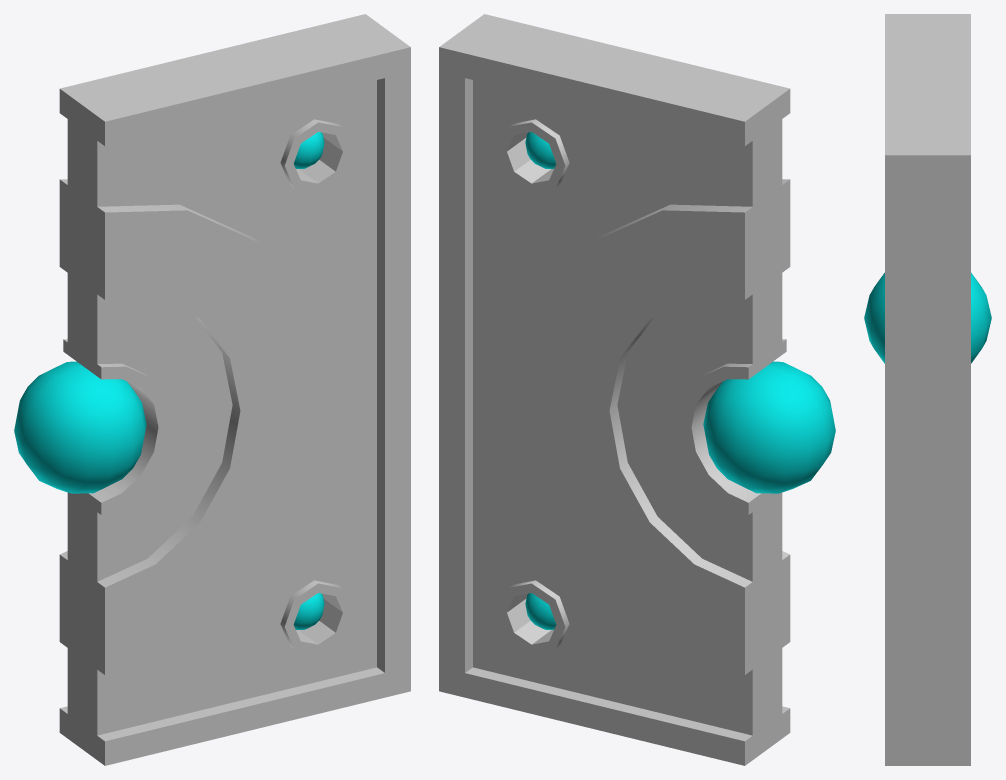
File: SM_DoorR.fbx
The picture shows the model from 3 angles, left to right: view 1: azimuth 30°, elevation 25°; view 2: azimuth 150°, elevation 25°; view 3: azimuth 270°, elevation 25°; orthographic projection. The views are drawn at different scales.
Parts seen in each view (by area): view 1: doorRight; view 2: doorRight; view 3: doorRight.
Boxes of the visible parts, x1,y1,x2,y2 form: doorRight: [14, 14, 410, 765]; doorRight: [439, 14, 835, 765]; doorRight: [864, 14, 991, 765].
Bounding box in the file's own units: 357 × 600 × 114.
